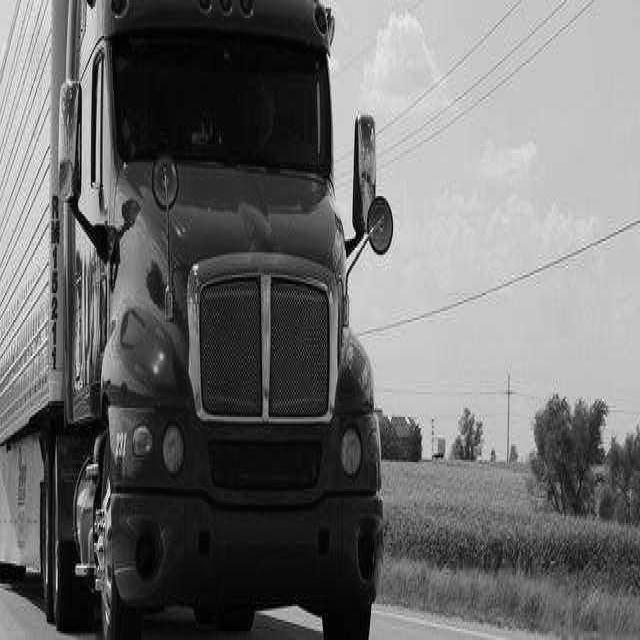Truck: (0, 0, 392, 636)
